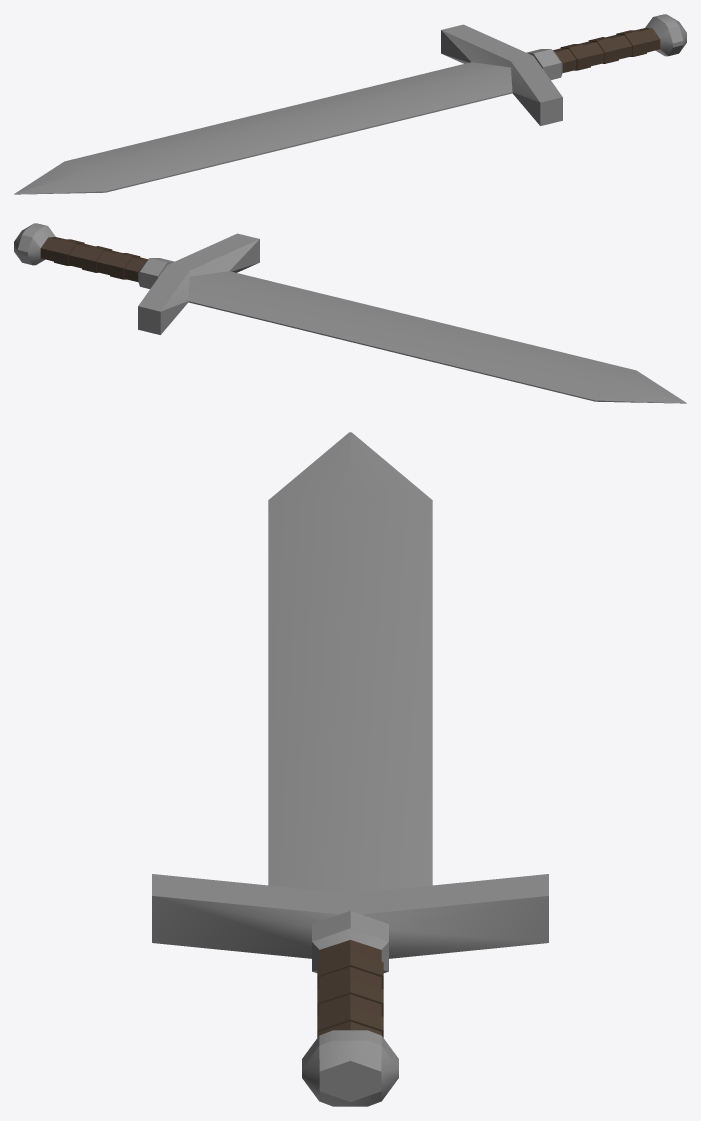
The model's file is sword.fbx.
3 renders of one model, top to bottom at view 1: azimuth 30°, elevation 25°; view 2: azimuth 150°, elevation 25°; view 3: azimuth 270°, elevation 25°, orthographic. The views are drawn at different scales.
Parts seen in each view (by area): view 1: sword; view 2: sword; view 3: sword.
Part boxes in pixels (box(x1,y1,x2,y2)): sword: box(14, 14, 686, 194); sword: box(14, 223, 686, 403); sword: box(152, 432, 548, 1106).
Size of the model in its own units: 5908 by 281 by 1528.
